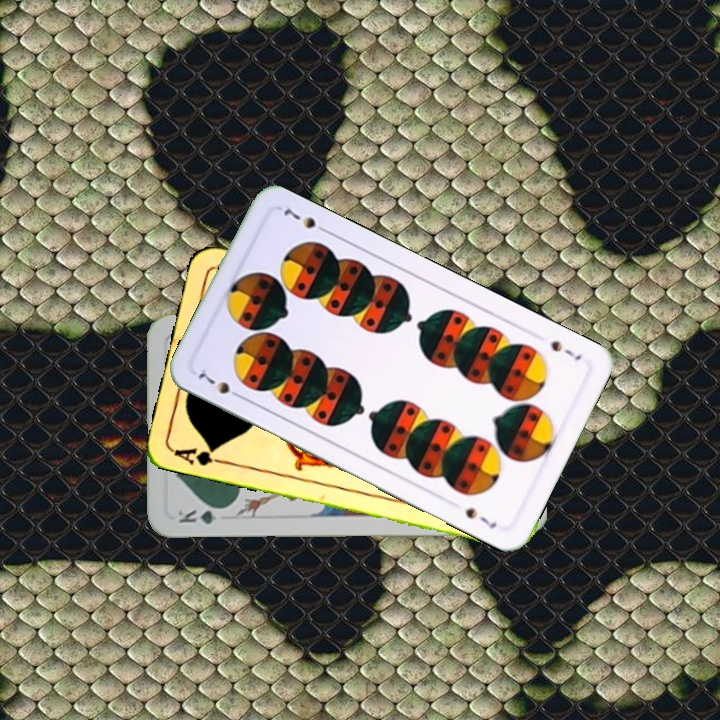GA: (169, 442, 229, 469)
GK: (174, 504, 231, 527)
S7: (194, 364, 246, 402), (546, 336, 585, 363)
